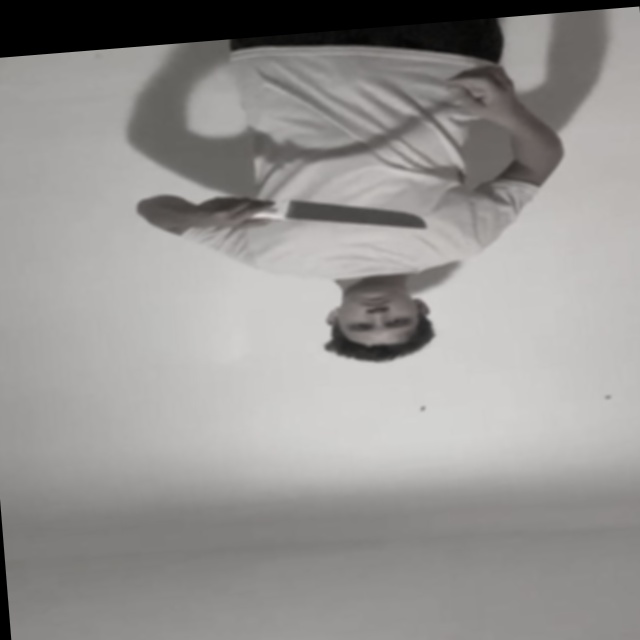Sharp-Object: (279, 193, 427, 239)
